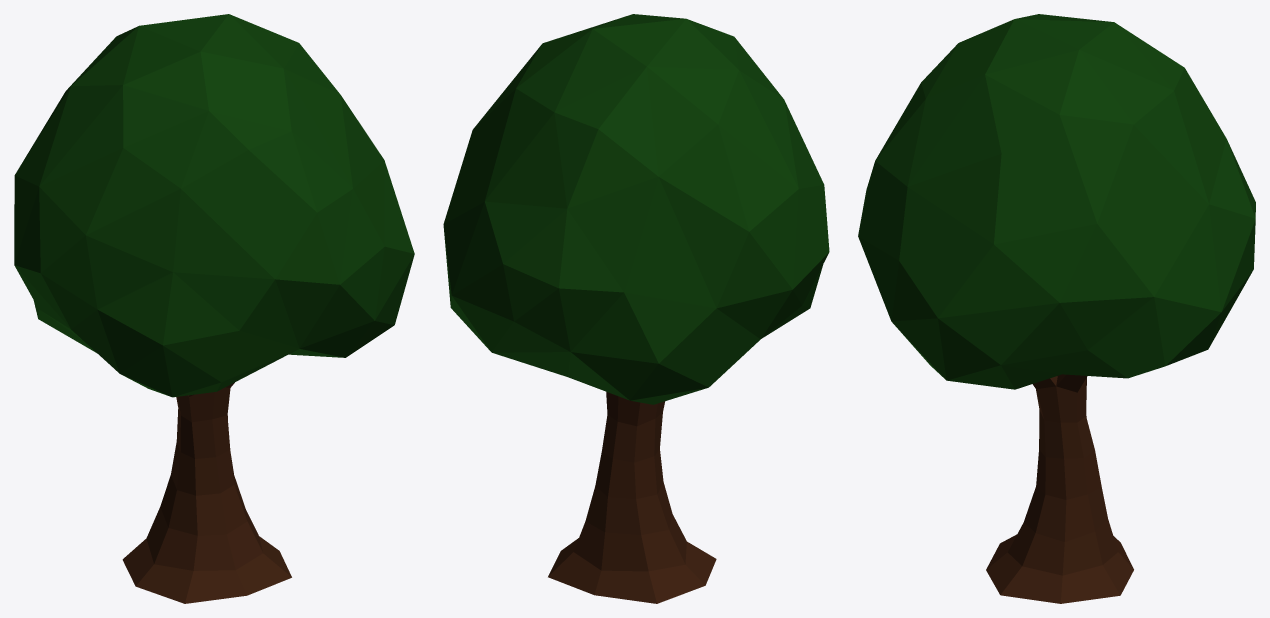
File: Tree1.FBX
3 views of the same model, side by side, from view 1: azimuth 30°, elevation 25°; view 2: azimuth 150°, elevation 25°; view 3: azimuth 270°, elevation 25° (orthographic).
Visible parts, largest first — view 1: LowPoly_Tree_01_Plane_Plane_000; view 2: LowPoly_Tree_01_Plane_Plane_000; view 3: LowPoly_Tree_01_Plane_Plane_000.
Boxes of the visible parts, left/top/right/bottom form: LowPoly_Tree_01_Plane_Plane_000: left=14, top=14, right=414, bottom=603; LowPoly_Tree_01_Plane_Plane_000: left=443, top=14, right=829, bottom=603; LowPoly_Tree_01_Plane_Plane_000: left=858, top=14, right=1255, bottom=603.
Size of the model in its own units: 1.35 by 2 by 1.34.
